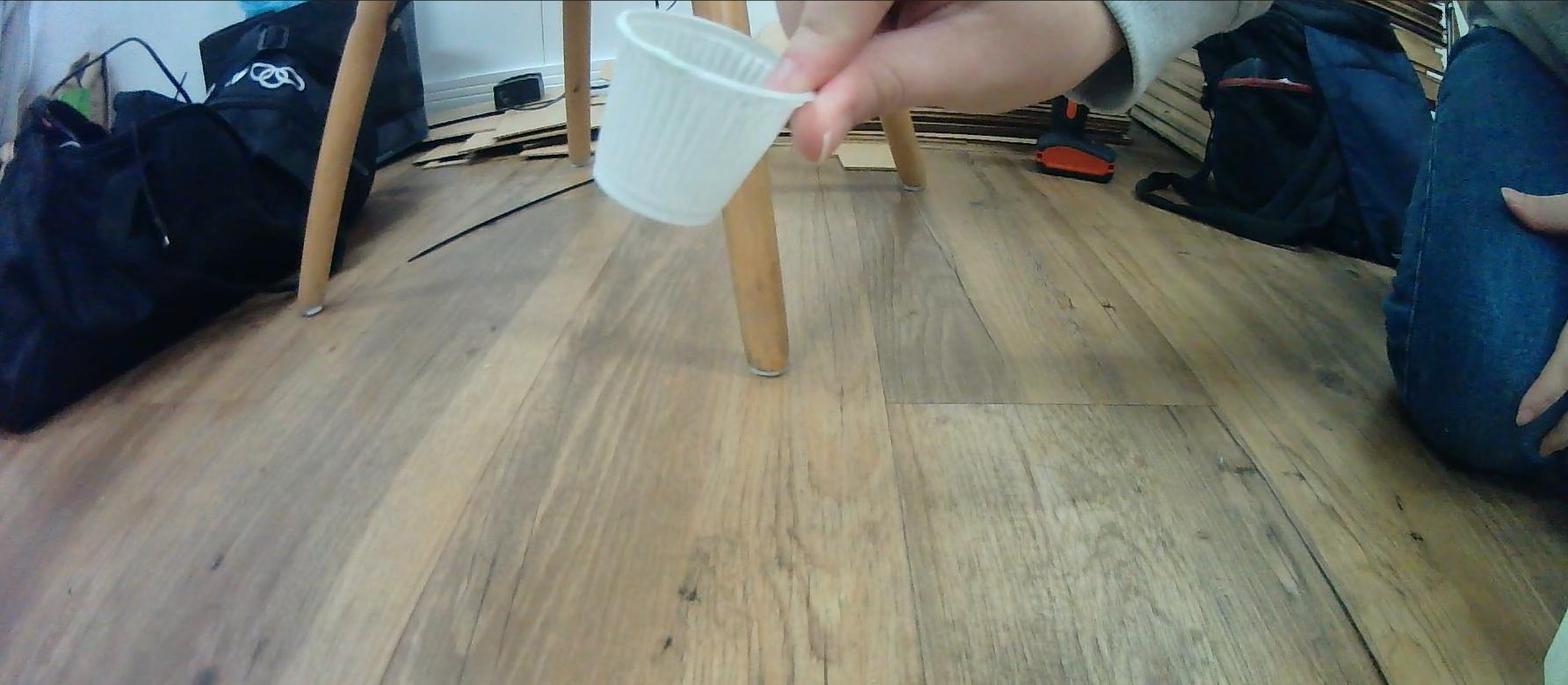planta: (592, 8, 818, 227)
